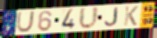4: (60, 8, 76, 31)
6: (37, 10, 54, 32)
J: (104, 7, 119, 27)
K: (123, 5, 140, 26)
U: (78, 6, 100, 30), (15, 10, 36, 33)
